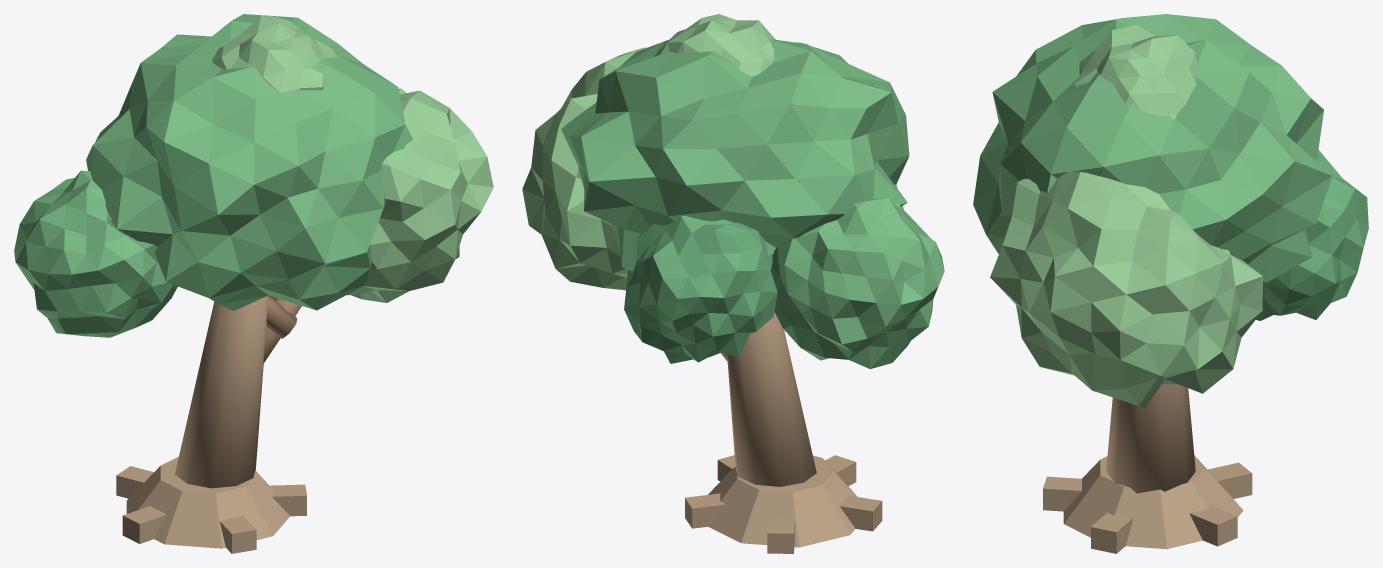
File: Tree_A_02.glb
3 renders of one model, left to right at view 1: azimuth 30°, elevation 25°; view 2: azimuth 150°, elevation 25°; view 3: azimuth 270°, elevation 25°, orthographic. The views are drawn at different scales.
Parts seen in each view (by area): view 1: BW_TreeA_V02_Canopy_01, BW_TreeA_V02_Canopy_02, BW_TreeA_V02_Canopy_03, BW_TreeA_V02_Trunk, BW_TreeA_V02_Roots, BW_TreeA_V02_Canopy_04, BW_TreeA_V02_Branches; view 2: BW_TreeA_V02_Canopy_01, BW_TreeA_V02_Canopy_03, BW_TreeA_V02_Canopy_05, BW_TreeA_V02_Roots, BW_TreeA_V02_Canopy_02, BW_TreeA_V02_Trunk, BW_TreeA_V02_Canopy_04; view 3: BW_TreeA_V02_Canopy_01, BW_TreeA_V02_Canopy_02, BW_TreeA_V02_Roots, BW_TreeA_V02_Canopy_05, BW_TreeA_V02_Trunk, BW_TreeA_V02_Canopy_04.
Part boxes in pixels (left/top/right/bottom): BW_TreeA_V02_Canopy_01: left=86, top=14, right=412, bottom=310; BW_TreeA_V02_Canopy_02: left=347, top=88, right=493, bottom=302; BW_TreeA_V02_Canopy_03: left=14, top=170, right=177, bottom=337; BW_TreeA_V02_Trunk: left=175, top=295, right=268, bottom=488; BW_TreeA_V02_Roots: left=116, top=456, right=306, bottom=553; BW_TreeA_V02_Canopy_04: left=212, top=15, right=337, bottom=93; BW_TreeA_V02_Branches: left=263, top=295, right=301, bottom=363; BW_TreeA_V02_Canopy_01: left=561, top=39, right=909, bottom=270; BW_TreeA_V02_Canopy_03: left=770, top=197, right=944, bottom=368; BW_TreeA_V02_Canopy_05: left=624, top=215, right=777, bottom=363; BW_TreeA_V02_Roots: left=685, top=455, right=882, bottom=553; BW_TreeA_V02_Canopy_02: left=522, top=47, right=646, bottom=290; BW_TreeA_V02_Trunk: left=727, top=312, right=816, bottom=486; BW_TreeA_V02_Canopy_04: left=654, top=14, right=775, bottom=76; BW_TreeA_V02_Canopy_01: left=973, top=14, right=1332, bottom=284; BW_TreeA_V02_Canopy_02: left=990, top=171, right=1262, bottom=408; BW_TreeA_V02_Roots: left=1043, top=455, right=1252, bottom=553; BW_TreeA_V02_Canopy_05: left=1256, top=150, right=1368, bottom=320; BW_TreeA_V02_Trunk: left=1106, top=384, right=1195, bottom=493; BW_TreeA_V02_Canopy_04: left=1073, top=24, right=1198, bottom=119.
Size of the model in its own units: 4.41 by 4.71 by 3.31.
